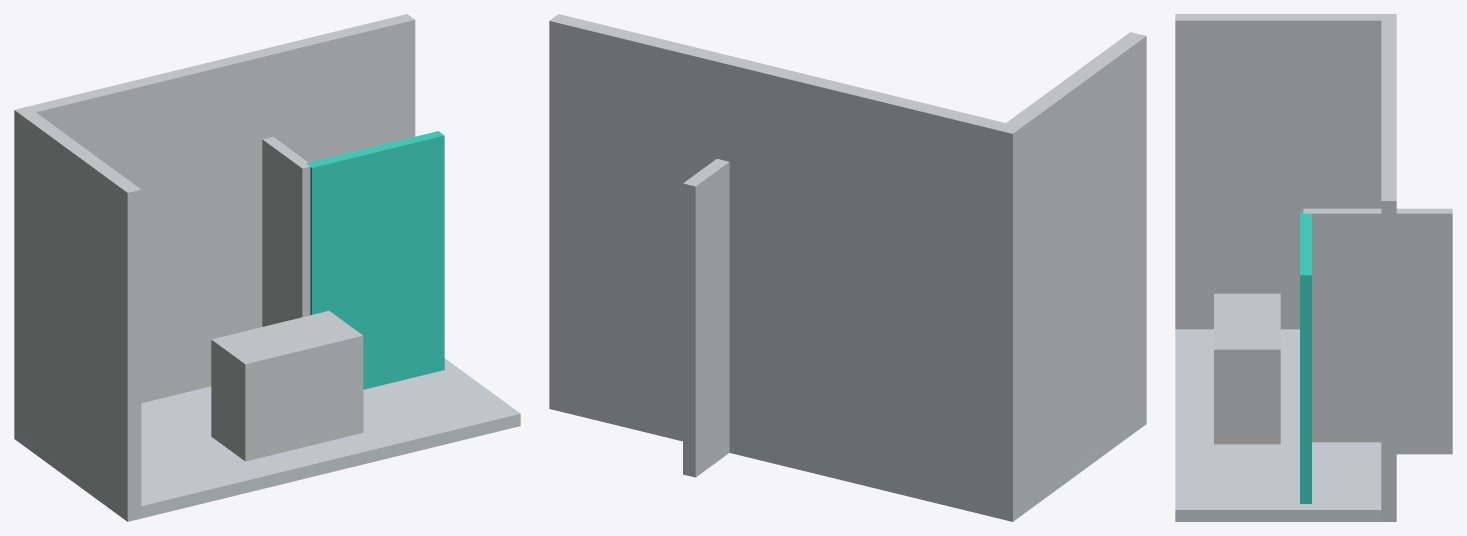
3 renders of one model, left to right at view 1: azimuth 30°, elevation 25°; view 2: azimuth 150°, elevation 25°; view 3: azimuth 270°, elevation 25°, orthographic. The views are drawn at different scales.
Parts seen in each view (by area): view 1: Exhibition Booth Concept; view 2: Exhibition Booth Concept; view 3: Exhibition Booth Concept.
Boxes of the visible parts, box(x1,y1,x2,y2) form: Exhibition Booth Concept: box(14, 14, 520, 521); Exhibition Booth Concept: box(549, 14, 1146, 521); Exhibition Booth Concept: box(1175, 14, 1452, 521).
Bounding box in the file's own units: 4 × 3.2 × 2.5.
